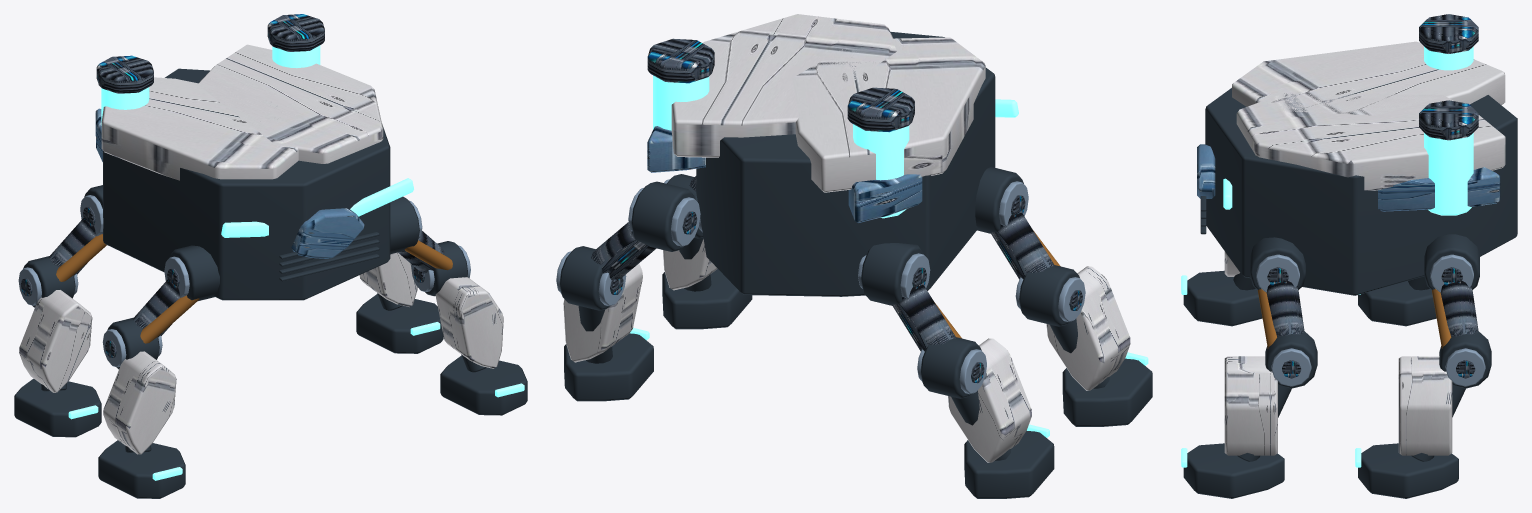
Rendered from quad.glb.
3 views of the same model, side by side, from view 1: azimuth 30°, elevation 25°; view 2: azimuth 150°, elevation 25°; view 3: azimuth 270°, elevation 25° (orthographic). The views are drawn at different scales.
Parts seen in each view (by area): view 1: Sloped crawler body, Layered beetle carapace, Servo housing.002, Servo housing.006, Swept crawler greave.001, Swept crawler greave, Servo housing, Swept crawler greave.003, Servo housing.004, Pressure capsule retainer, Swept cobalt shell, Swept crawler greave.002 (+11 smaller); view 2: Layered beetle carapace, Sloped crawler body, Servo housing, Servo housing.004, Servo housing.002, Swept crawler greave.001, Swept crawler greave, Pressure capsule retainer, Servo housing.006, Swept cobalt shell, Biome pressure capsule, Swept crawler greave.002 (+7 smaller); view 3: Sloped crawler body, Layered beetle carapace, Servo housing.004, Servo housing.006, Swept crawler greave.002, Swept crawler greave.003, Biome pressure capsule, Pressure capsule retainer, Swept cobalt shell, Servo housing.002, Servo housing, Hub.012 (+5 smaller).
Boxes of the visible parts, x1,y1,x2,y2 form: Sloped crawler body: [103, 68, 390, 300]; Layered beetle carapace: [101, 44, 383, 180]; Servo housing.002: [98, 245, 219, 498]; Servo housing.006: [390, 196, 527, 415]; Swept crawler greave.001: [103, 351, 176, 454]; Swept crawler greave: [19, 290, 92, 392]; Servo housing: [14, 185, 102, 437]; Swept crawler greave.003: [435, 277, 503, 368]; Servo housing.004: [356, 293, 443, 353]; Pressure capsule retainer: [96, 14, 324, 93]; Swept cobalt shell: [95, 108, 364, 258]; Swept crawler greave.002: [359, 252, 417, 307]; Layered beetle carapace: [671, 14, 985, 192]; Sloped crawler body: [696, 31, 995, 296]; Servo housing: [861, 243, 1054, 498]; Servo housing.004: [559, 181, 695, 401]; Servo housing.002: [975, 167, 1152, 426]; Swept crawler greave.001: [1046, 266, 1130, 390]; Swept crawler greave: [948, 338, 1031, 462]; Pressure capsule retainer: [647, 38, 914, 132]; Servo housing.006: [662, 174, 752, 329]; Swept cobalt shell: [647, 126, 922, 222]; Biome pressure capsule: [653, 75, 909, 218]; Swept crawler greave.002: [563, 263, 642, 362]; Sloped crawler body: [1200, 88, 1517, 295]; Layered beetle carapace: [1232, 41, 1505, 190]; Servo housing.004: [1358, 234, 1491, 498]; Servo housing.006: [1183, 237, 1317, 498]; Swept crawler greave.002: [1398, 356, 1452, 455]; Swept crawler greave.003: [1224, 356, 1277, 455]; Biome pressure capsule: [1424, 46, 1473, 215]; Pressure capsule retainer: [1419, 14, 1478, 140]; Swept cobalt shell: [1197, 144, 1500, 211]; Servo housing.002: [1183, 270, 1262, 326]; Servo housing: [1358, 276, 1436, 326]; Hub.012: [1266, 267, 1304, 378].
Size of the model in its own units: 1.46 by 1.08 by 1.
Materials: 8 (3 with a texture image).
